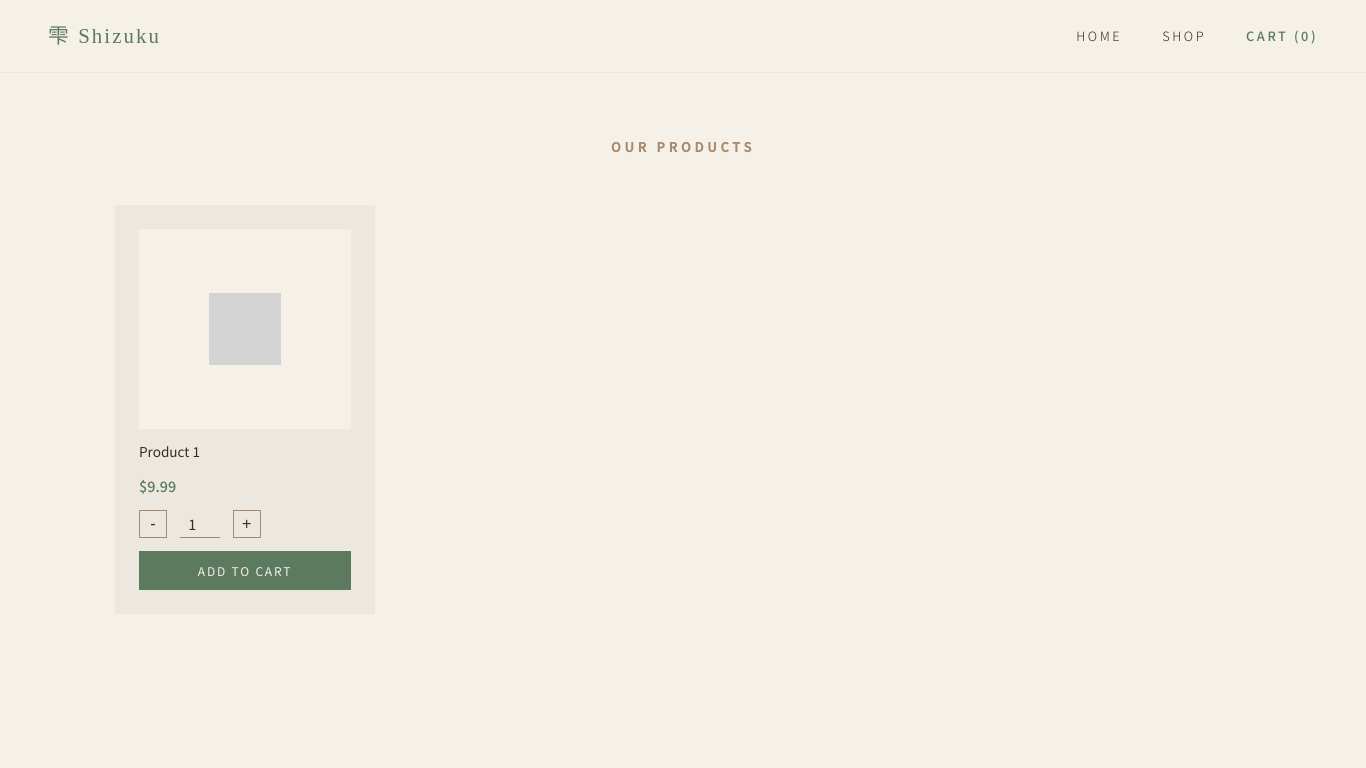
it: App cart logic › cart count updates when an item is added
This screenshot has width=1366, height=768.
Click the button "Add to Cart". click: (245, 570)
box: [139,551,351,590]
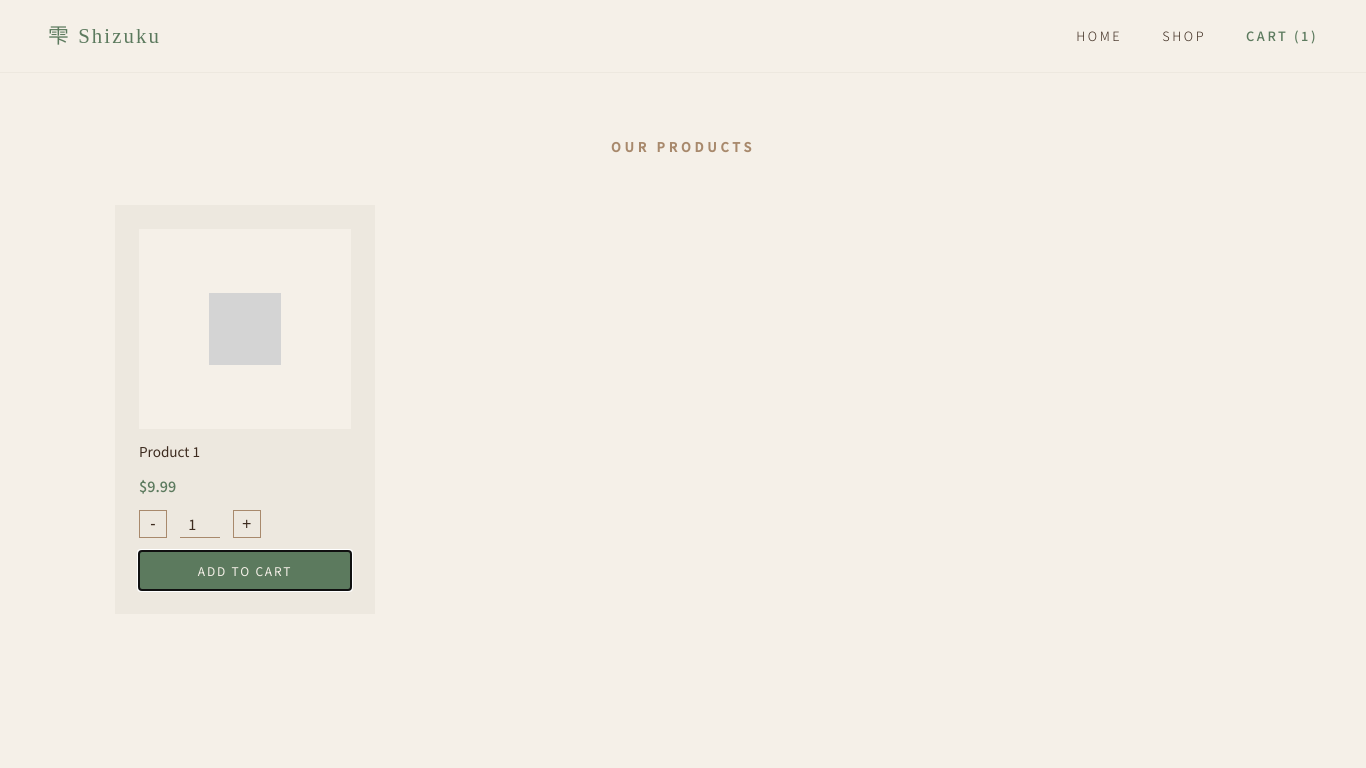
Expected: the link "Cart (1)" is shown, [1246,26,1318,46]
